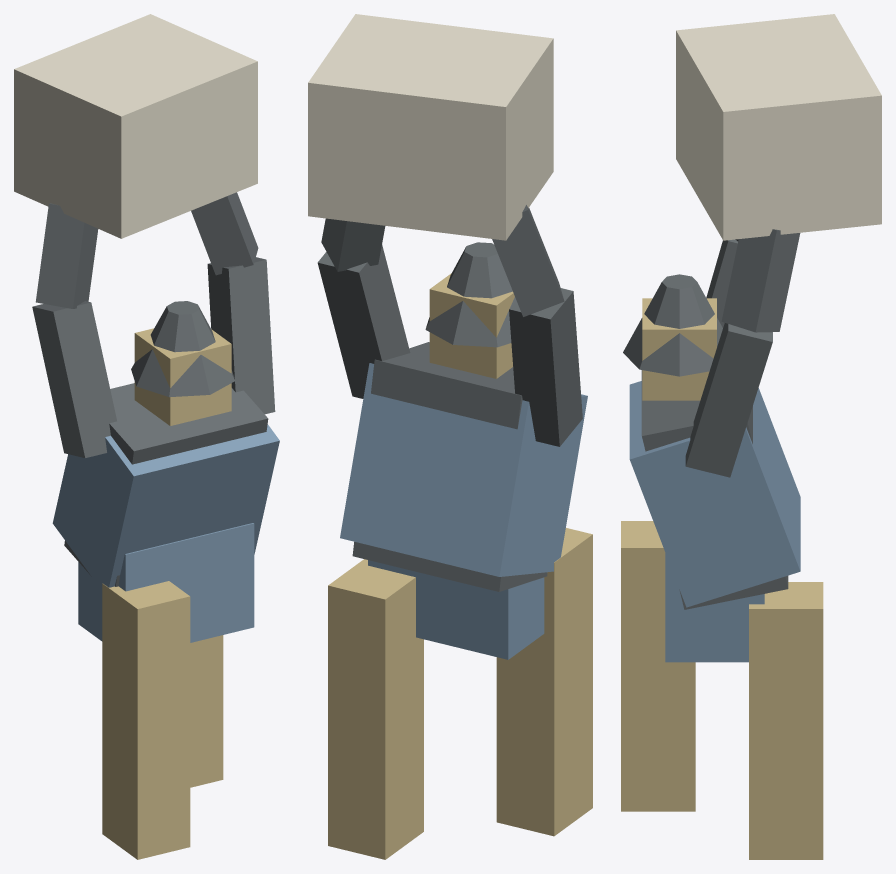
File: defender-hurling-a-stone.glb
3 views of the same model, side by side, from view 1: azimuth 30°, elevation 25°; view 2: azimuth 150°, elevation 25°; view 3: azimuth 270°, elevation 25° (orthographic). The views are drawn at different scales.
Parts seen in each view (by area): view 1: defender-hurling-stone; view 2: defender-hurling-stone; view 3: defender-hurling-stone.
Part boxes in pixels (x1=…): defender-hurling-stone: x1=14, y1=14, x2=279, y2=859; defender-hurling-stone: x1=308, y1=14, x2=592, y2=859; defender-hurling-stone: x1=621, y1=14, x2=881, y2=859.
Bounding box in the file's own units: 0.7623 × 2.36 × 0.735.
